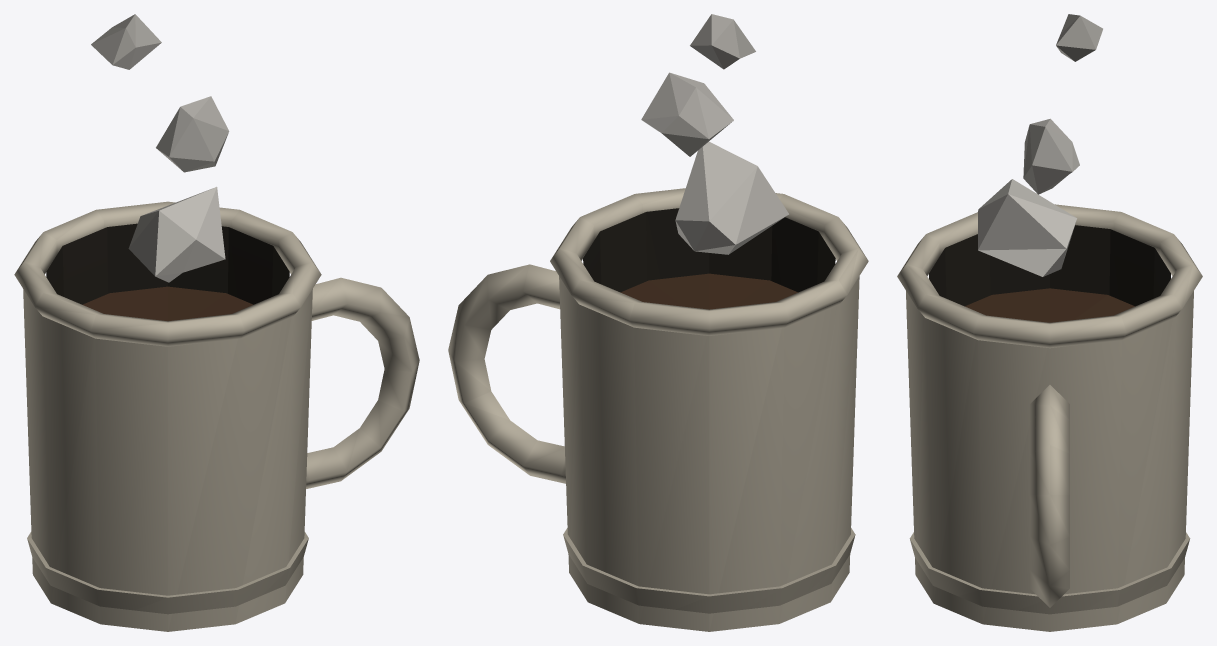
Rendered from coffee_mug.glb.
The picture shows the model from 3 angles, left to right: view 1: azimuth 30°, elevation 25°; view 2: azimuth 150°, elevation 25°; view 3: azimuth 270°, elevation 25°; orthographic projection. The views are drawn at different scales.
Visible parts, largest first — view 1: coffee_mug; view 2: coffee_mug; view 3: coffee_mug.
Boxes of the visible parts, x1=… form: coffee_mug: x1=14, y1=14, x2=419, y2=631; coffee_mug: x1=448, y1=14, x2=868, y2=631; coffee_mug: x1=897, y1=14, x2=1202, y2=631.
Bounding box in the file's own units: 0.1315 × 0.1808 × 0.091.
